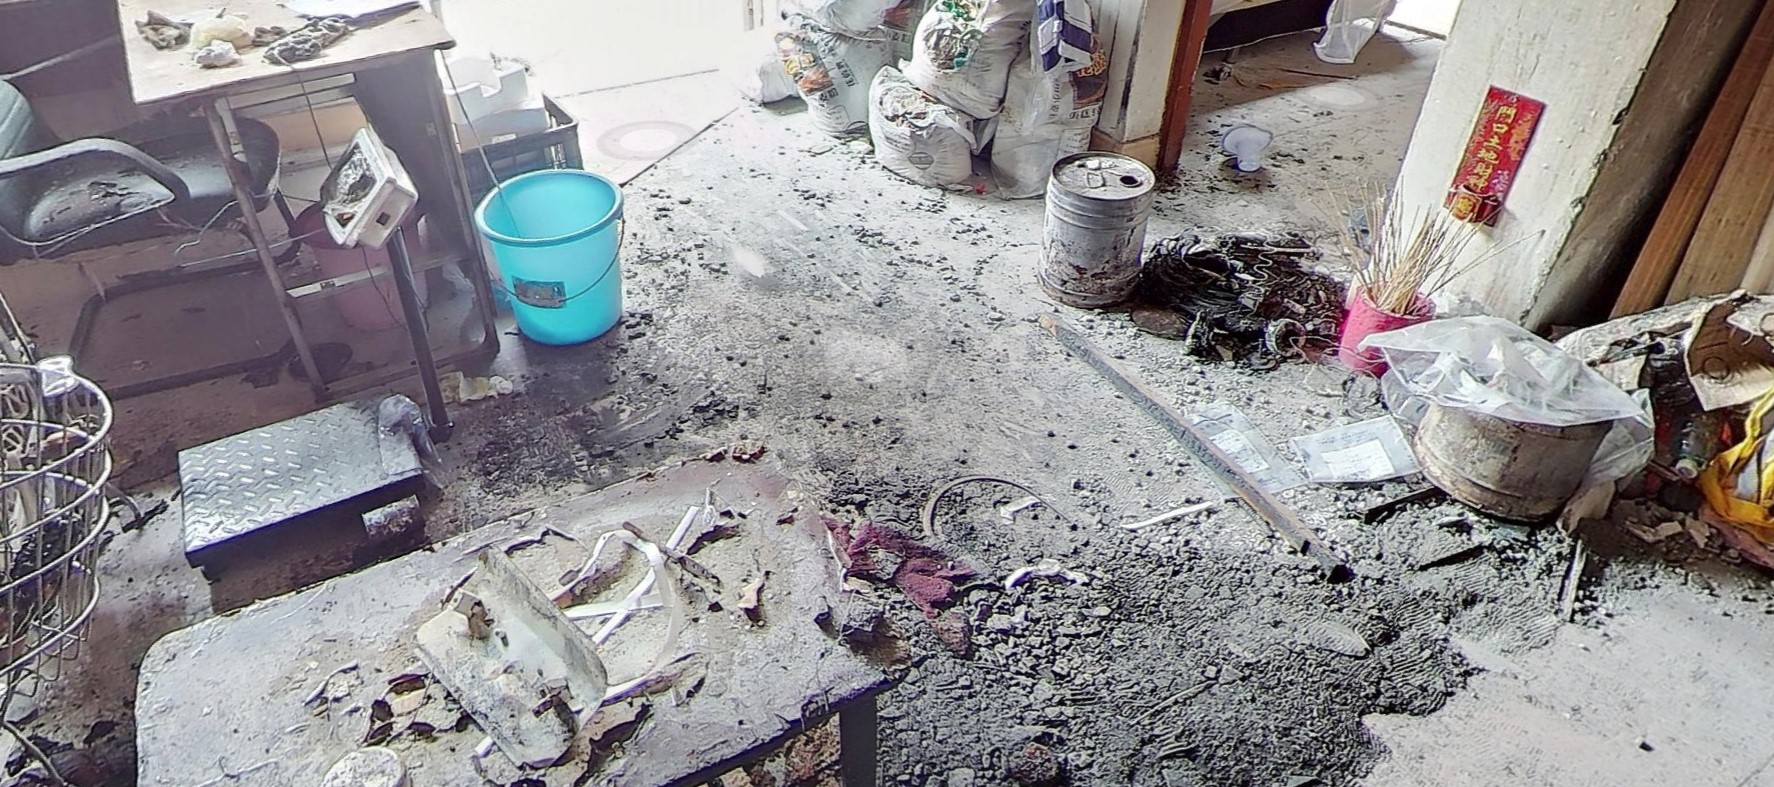Damage_level1: (1592, 12, 1750, 251), (1476, 3, 1629, 84), (1108, 10, 1145, 141), (1541, 270, 1624, 312)
